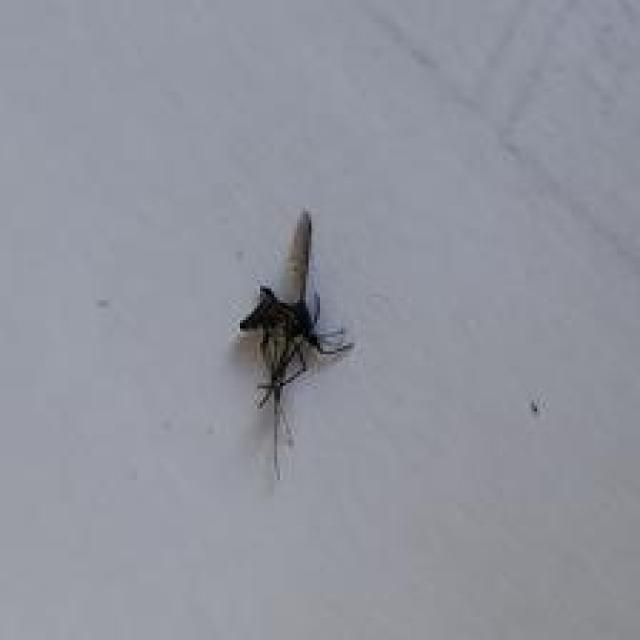Aedes albopictus: (237, 206, 354, 480)
